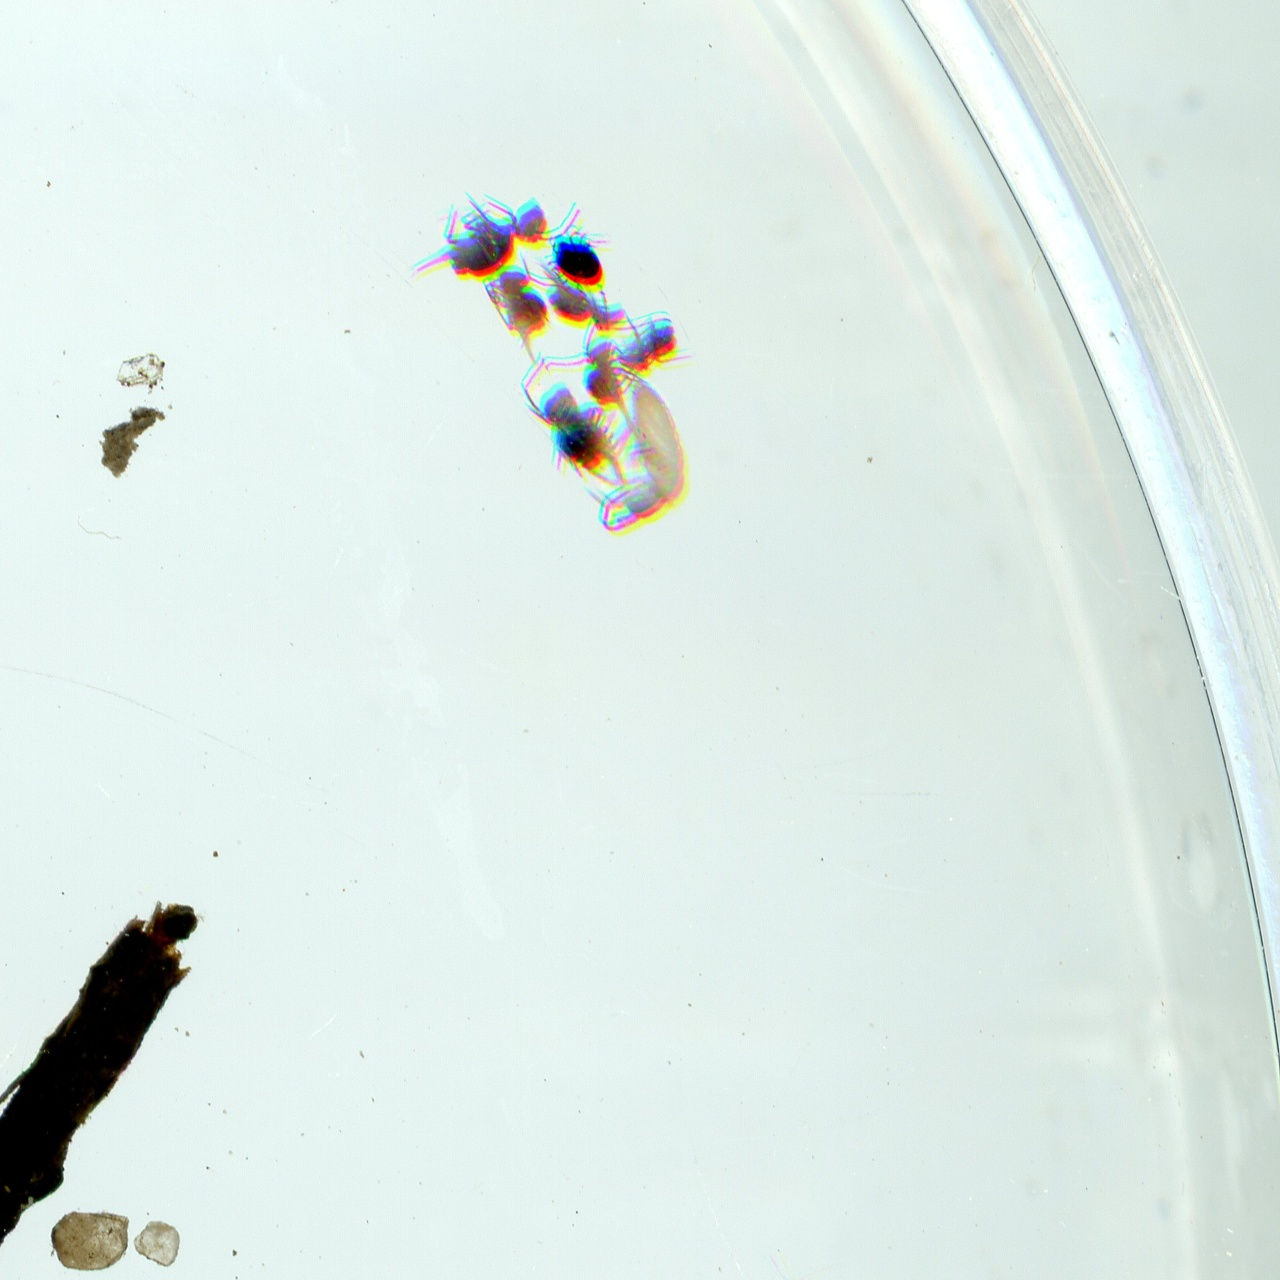arthropod: (375, 143, 598, 316), (502, 333, 639, 512), (467, 236, 594, 379), (516, 253, 676, 359), (595, 376, 694, 538), (576, 309, 647, 438), (618, 302, 697, 376), (544, 227, 615, 297)
